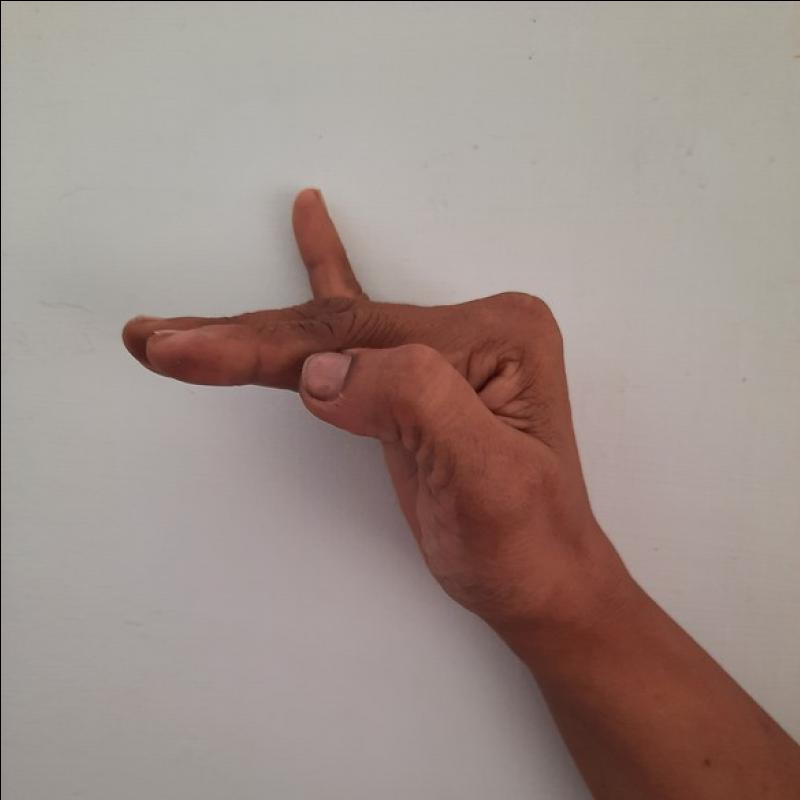Kartharee Mukham: (110, 177, 599, 621)
